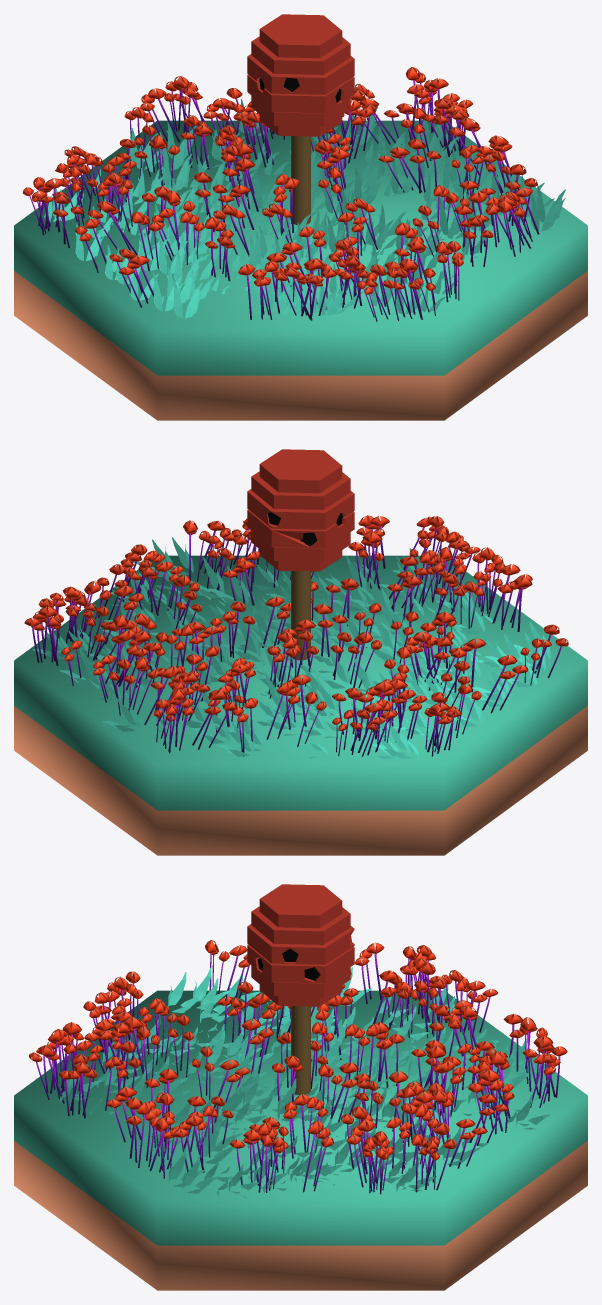
Rendered from hexagonal_colmeia_lendaria.glb.
The picture shows the model from 3 angles, top to bottom: view 1: azimuth 30°, elevation 25°; view 2: azimuth 150°, elevation 25°; view 3: azimuth 270°, elevation 25°; orthographic projection.
Visible parts, largest first — view 1: grass.001, grass.002, grass, Cylinder.001, Cylinder; view 2: grass.001, grass.002, grass, Cylinder.001, Cylinder; view 3: grass.001, grass.002, grass, Cylinder.001, Cylinder.
Boxes of the visible parts, x1,y1,x2,y2 form: grass.001: (14,120,587,420); grass.002: (23,67,539,321); grass: (44,99,565,318); Cylinder.001: (247,14,354,136); Cylinder: (291,136,310,224); grass.001: (14,555,587,855); grass.002: (24,515,568,756); grass: (32,537,550,758); Cylinder.001: (247,449,354,571); Cylinder: (291,571,310,660); grass.001: (14,990,587,1290); grass.002: (29,940,567,1194); grass: (60,967,549,1198); Cylinder.001: (247,884,354,1006); Cylinder: (291,1006,310,1095).
Bounding box in the file's own units: 1.02 × 0.6342 × 1.15.
Materials: 6 (3 with a texture image).
